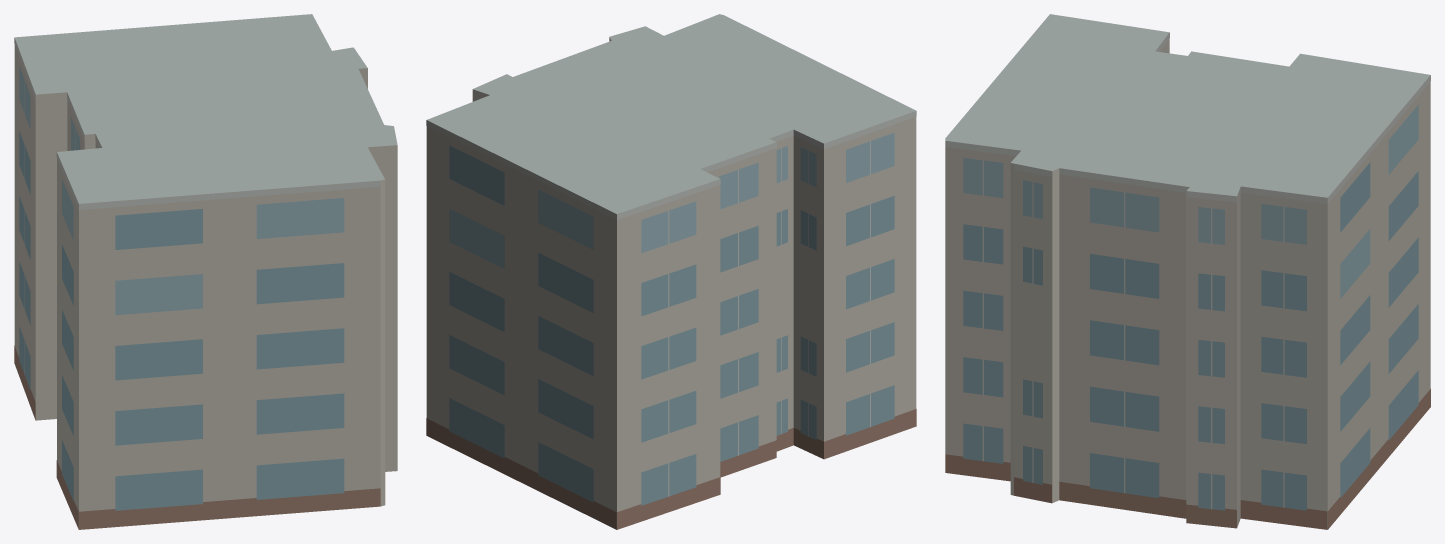
File: survey-upis-32659346.glb
The picture shows the model from 3 angles, left to right: view 1: azimuth 30°, elevation 25°; view 2: azimuth 150°, elevation 25°; view 3: azimuth 270°, elevation 25°; orthographic projection. The views are drawn at different scales.
Visible parts, largest first — view 1: survey-upis-32659346.tmp; view 2: survey-upis-32659346.tmp; view 3: survey-upis-32659346.tmp.
Boxes of the visible parts, left/top/right/bottom form: survey-upis-32659346.tmp: left=14, top=14, right=397, bottom=529; survey-upis-32659346.tmp: left=426, top=14, right=916, bottom=529; survey-upis-32659346.tmp: left=945, top=14, right=1430, bottom=529.
Size of the model in its own units: 15.56 by 13.1 by 17.37.
